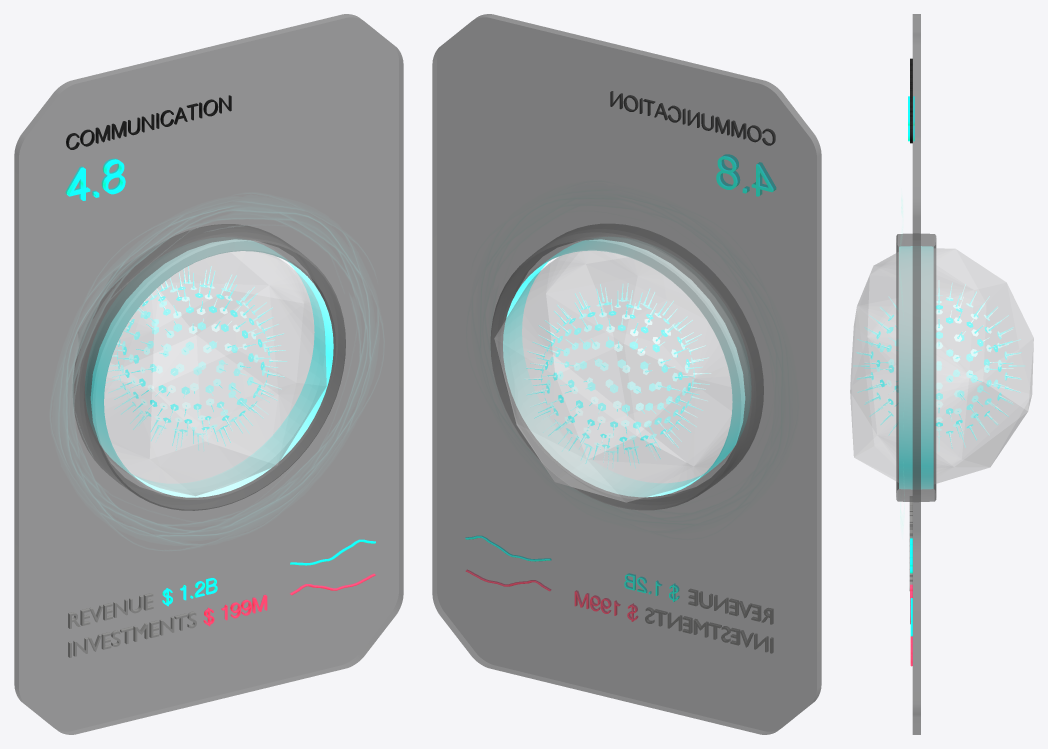
The picture shows the model from 3 angles, left to right: view 1: azimuth 30°, elevation 25°; view 2: azimuth 150°, elevation 25°; view 3: azimuth 270°, elevation 25°; orthographic projection. The views are drawn at different scales.
Parts seen in each view (by area): view 1: baseGreen.002, Glass.004, Corner.003, neon-corner.003, baseCorner.002, neon-sphereBase.002, Text.018, Text.015, neon-sphere.004, Text.017, neon-rimGreen.002, Text.013 (+1 smaller); view 2: baseGreen.002, Glass.004, Corner.003, neon-corner.003, baseCorner.002, neon-sphere.004, Text.018, Text.015, Text.017, Text.013; view 3: Glass.004, Corner.003, neon-corner.003, baseCorner.002, neon-sphere.004, neon-sphereBase.002.
Boxes of the visible parts, box(x1,y1,x2,y2) form: baseGreen.002: box(14, 14, 403, 734); Glass.004: box(104, 251, 326, 495); Corner.003: box(74, 224, 345, 510); neon-corner.003: box(85, 237, 333, 497); baseCorner.002: box(14, 14, 403, 734); neon-sphereBase.002: box(117, 282, 270, 434); Text.018: box(66, 95, 231, 149); Text.015: box(68, 611, 196, 657); neon-sphere.004: box(112, 266, 278, 449); Text.017: box(65, 158, 125, 200); neon-rimGreen.002: box(66, 206, 370, 536); Text.013: box(68, 593, 153, 628); baseGreen.002: box(432, 14, 821, 734); Glass.004: box(494, 251, 732, 502); Corner.003: box(490, 224, 763, 510); neon-corner.003: box(503, 237, 750, 497); baseCorner.002: box(432, 14, 821, 734); neon-sphere.004: box(524, 283, 711, 469); Text.018: box(610, 91, 775, 145); Text.015: box(645, 607, 773, 653); Text.017: box(716, 154, 775, 196); Text.013: box(688, 589, 773, 624); Glass.004: box(850, 248, 1033, 483); Corner.003: box(896, 233, 936, 501); neon-corner.003: box(899, 246, 933, 489); baseCorner.002: box(912, 14, 920, 734); neon-sphere.004: box(853, 280, 1024, 451); neon-sphereBase.002: box(870, 295, 1007, 436).
Size of the model in its own units: 1.47 by 2.38 by 0.666.
8 materials, 1 textured.
